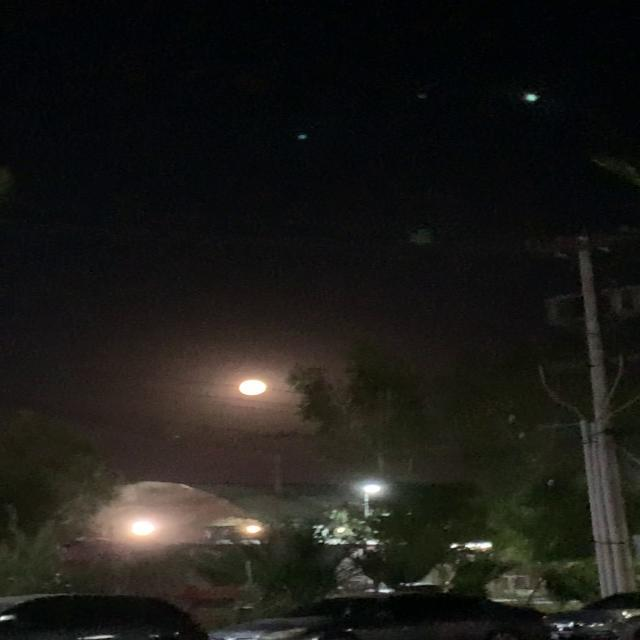moon: (227, 370, 280, 396)
